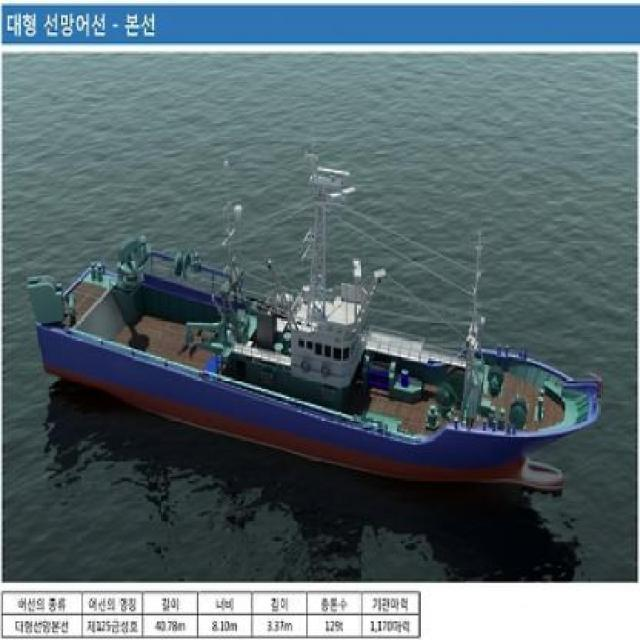Ship: (42, 200, 603, 495)
